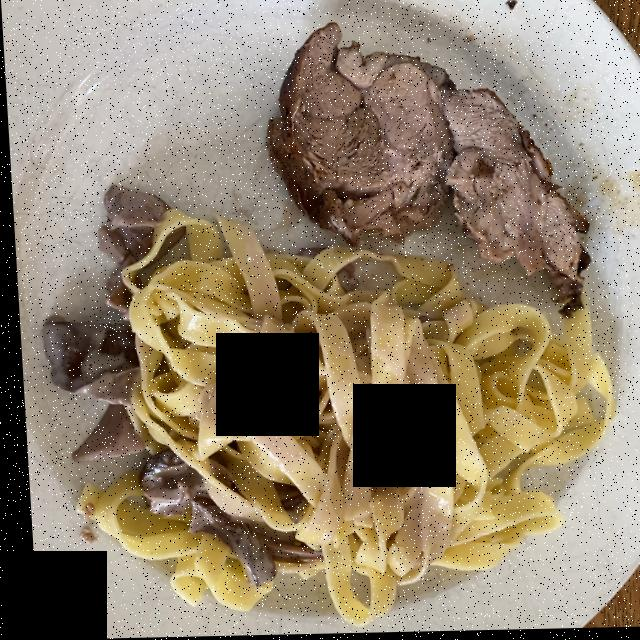lamb: (233, 27, 593, 306)
pasta-linguini-parpadelle-tagliatelle: (89, 214, 600, 616)
sauce-cream: (35, 229, 463, 577)
